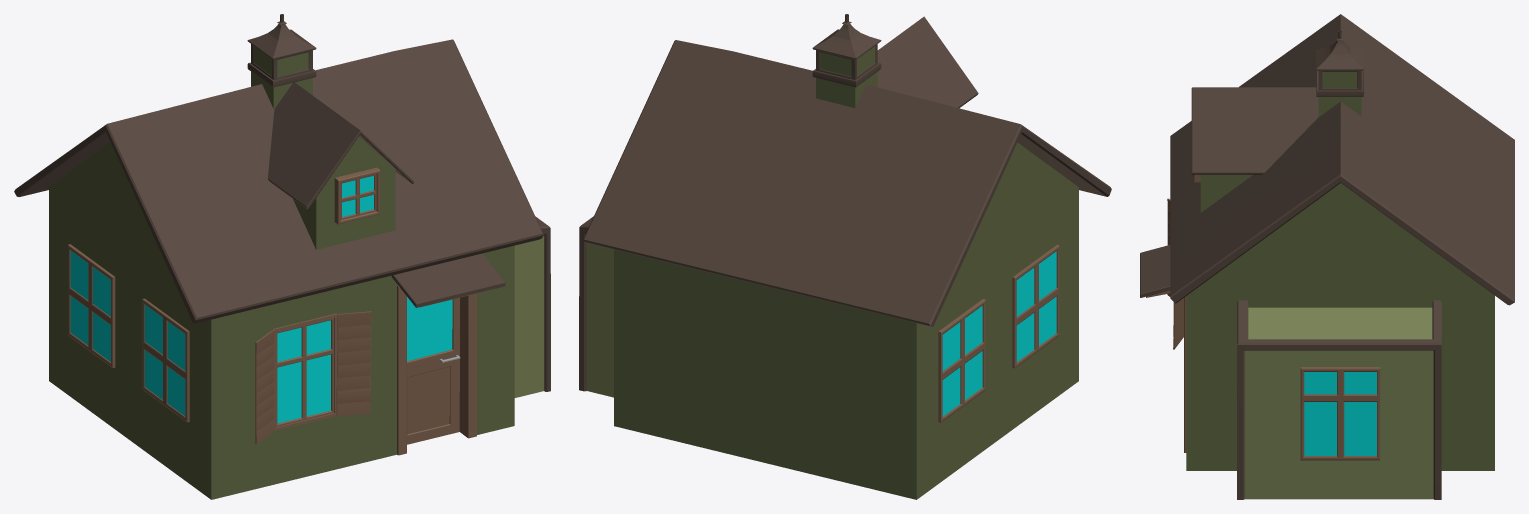
Rendered from Casa_01.fbx.
3 renders of one model, left to right at view 1: azimuth 30°, elevation 25°; view 2: azimuth 150°, elevation 25°; view 3: azimuth 270°, elevation 25°, orthographic. The views are drawn at different scales.
Parts seen in each view (by area): view 1: polySurface39; view 2: polySurface39; view 3: polySurface39.
Boxes of the visible parts, x1,y1,x2,y2 form: polySurface39: [14, 14, 550, 499]; polySurface39: [579, 14, 1111, 499]; polySurface39: [1140, 14, 1514, 499].
Size of the model in its own units: 1081 by 1024 by 943.
